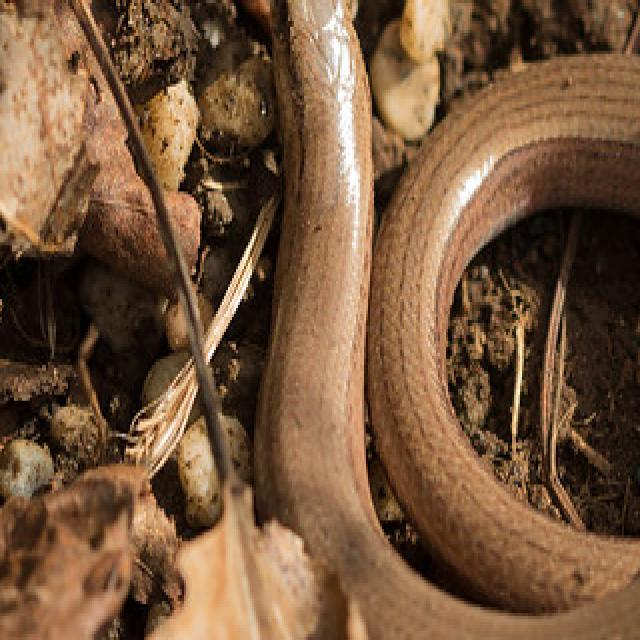snake: (250, 0, 640, 640)
